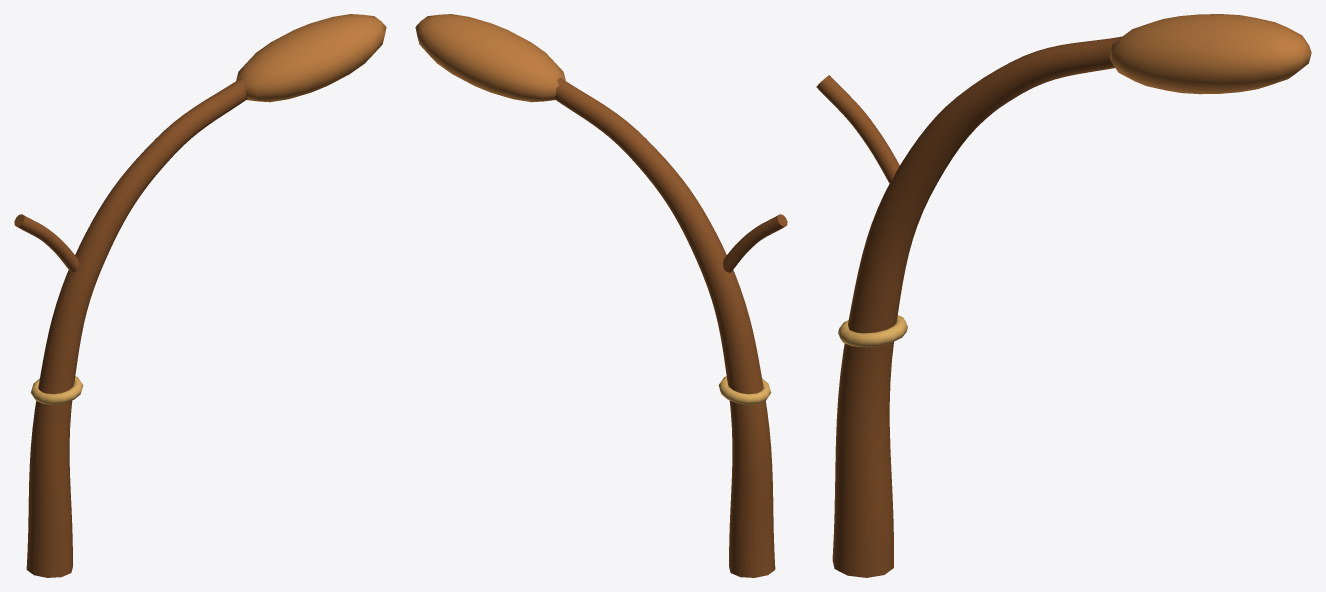
Rendered from stalk.glb.
The picture shows the model from 3 angles, left to right: view 1: azimuth 30°, elevation 25°; view 2: azimuth 150°, elevation 25°; view 3: azimuth 330°, elevation 25°; orthographic projection. The views are drawn at different scales.
Visible parts, largest first — view 1: Stalk; view 2: Stalk; view 3: Stalk.
Boxes of the visible parts, x1,y1,x2,y2 form: Stalk: (14, 14, 386, 577); Stalk: (415, 14, 787, 577); Stalk: (816, 14, 1311, 577).
Bounding box in the file's own units: 3.03 × 3.76 × 0.6.
